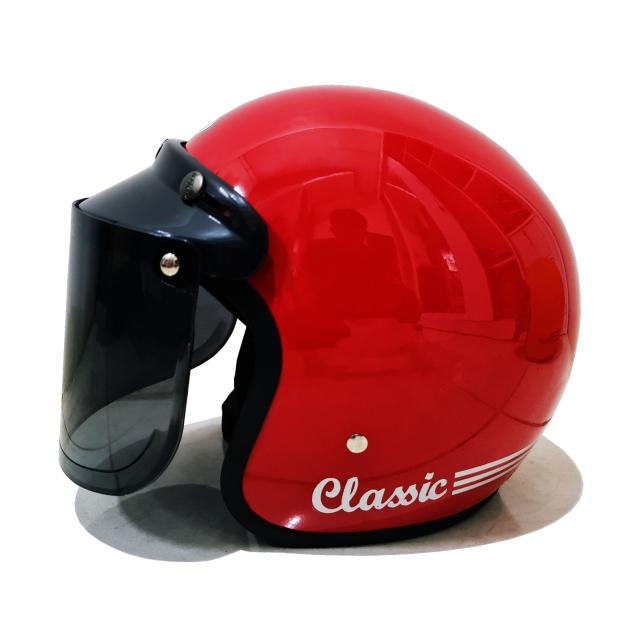Helm: (53, 77, 584, 553)
